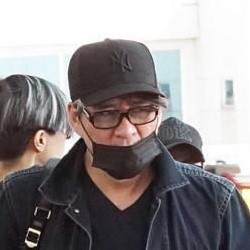mask: (81, 123, 165, 183)
